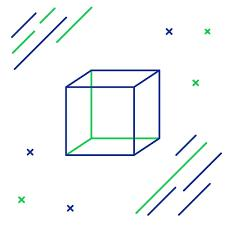cubos: (61, 62, 165, 161)
